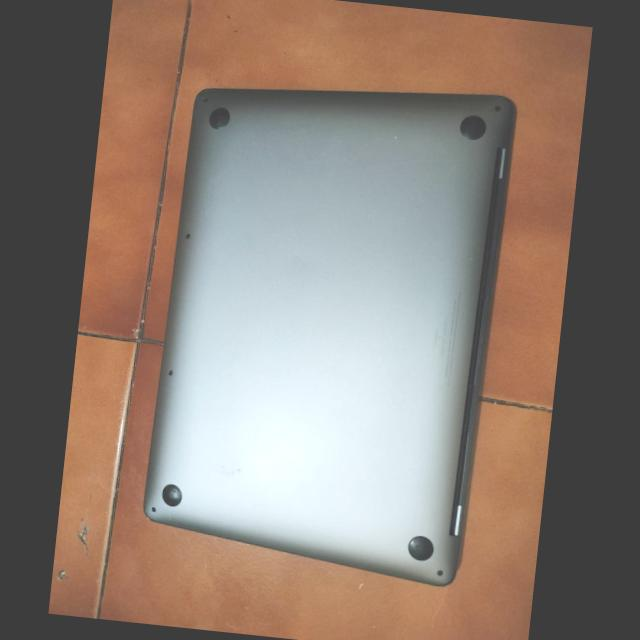laptop: (124, 41, 526, 600)
